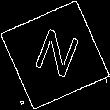N_S: (27, 24, 83, 86)
